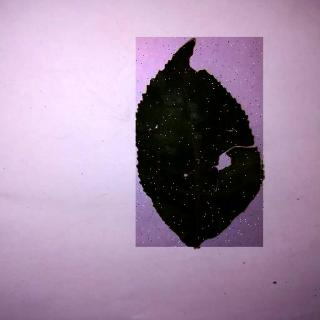Bird Eye Spot: (138, 38, 266, 248)
